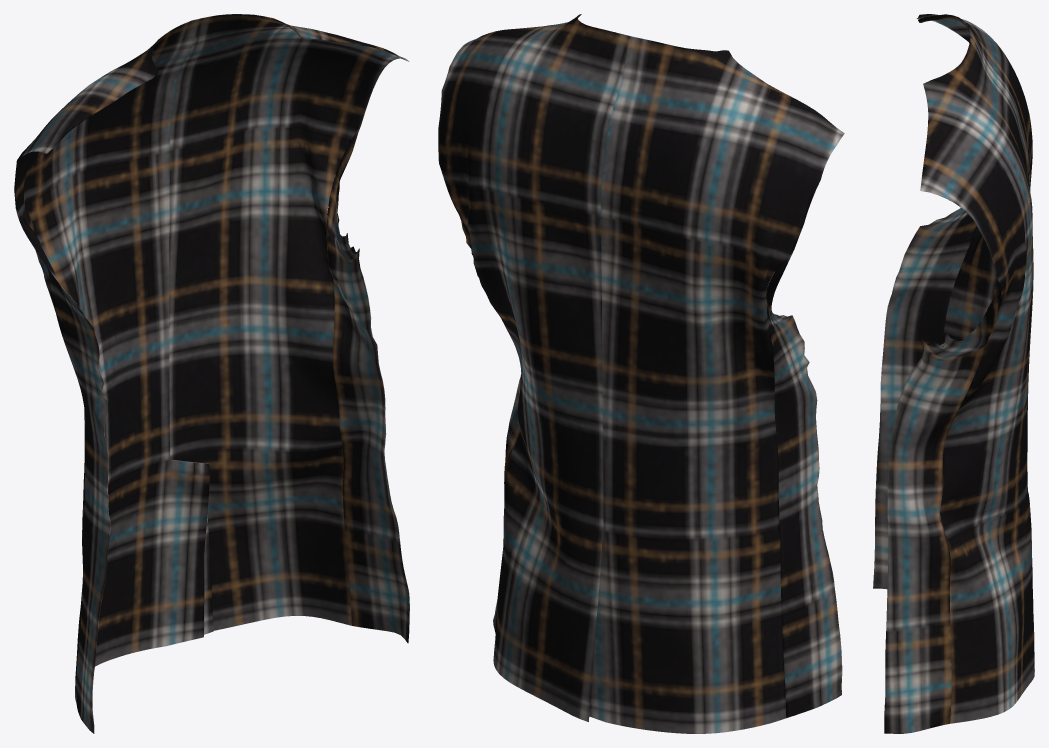
Rendered from svj.glb.
3 renders of one model, left to right at view 1: azimuth 30°, elevation 25°; view 2: azimuth 150°, elevation 25°; view 3: azimuth 270°, elevation 25°, orthographic. The views are drawn at different scales.
Visible parts, largest first — view 1: vent (×4); view 2: vent (×4); view 3: vent (×4).
Part boxes in pixels (bbox=[...]): vent (×4): bbox=[14, 14, 409, 733]; vent (×4): bbox=[438, 14, 844, 733]; vent (×4): bbox=[873, 14, 1034, 733].
Bounding box in the file's own units: 440 × 736 × 170.
Materials: 4 (4 with a texture image).
